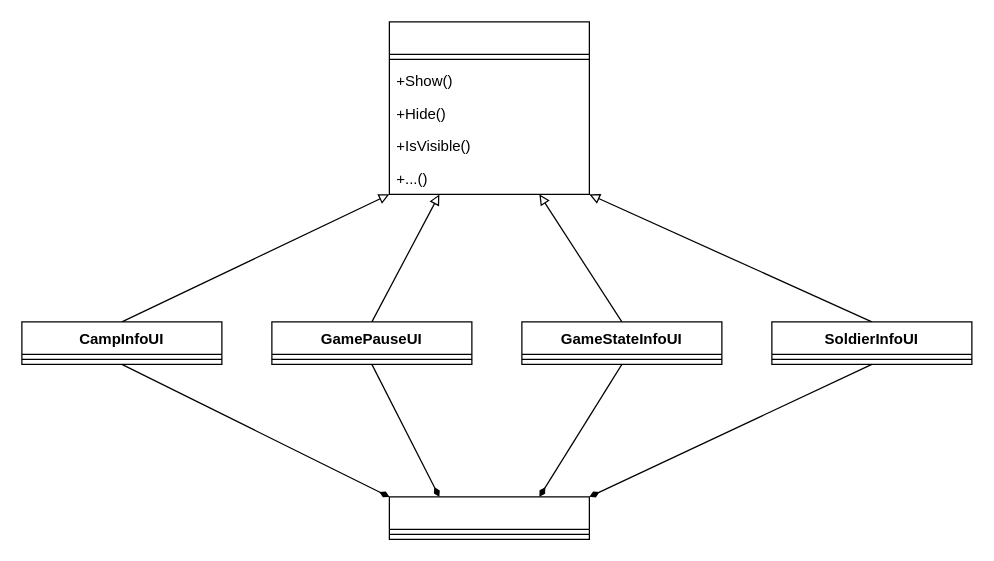
The diagram is 994 pixels wide and 561 high, and some of its shapes have lost their labels. Each missing label, with the box of its shape:
IUserInterface: (388, 21, 589, 194)
PBaseDefenseGame: (388, 496, 589, 539)
